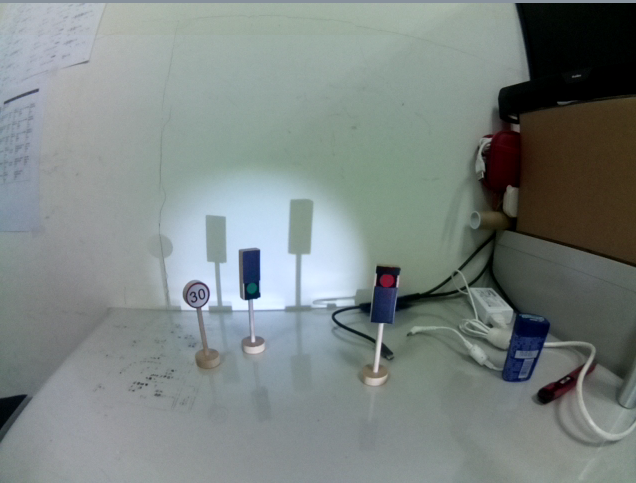Green: (234, 243, 264, 306)
Red: (372, 262, 399, 327)
Speed30: (182, 279, 213, 309)
